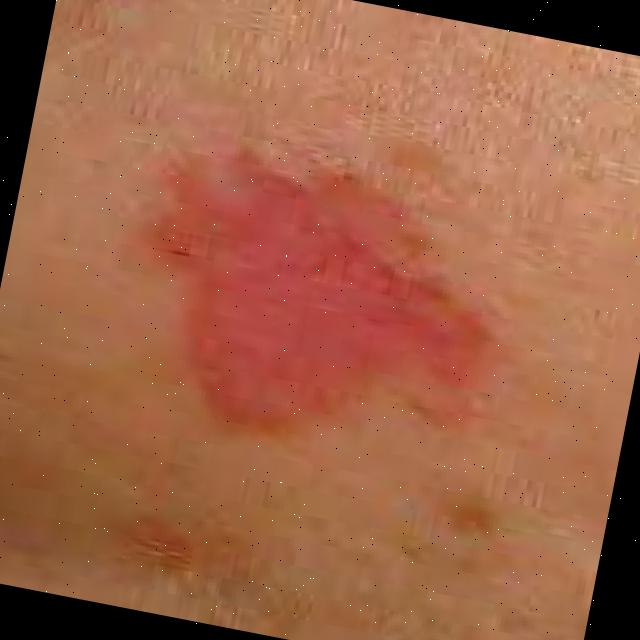kene: (64, 101, 556, 498)
